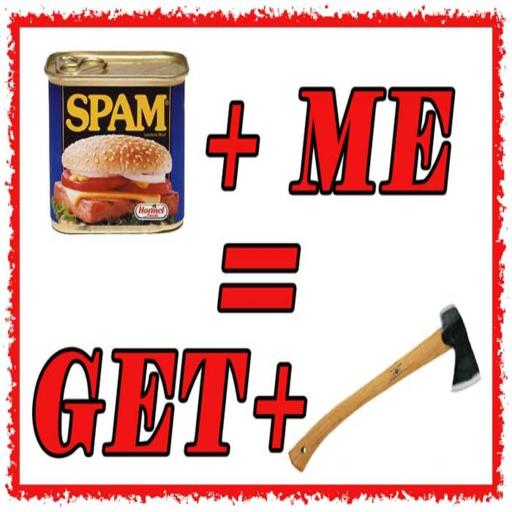Axe: (290, 308, 482, 472)
